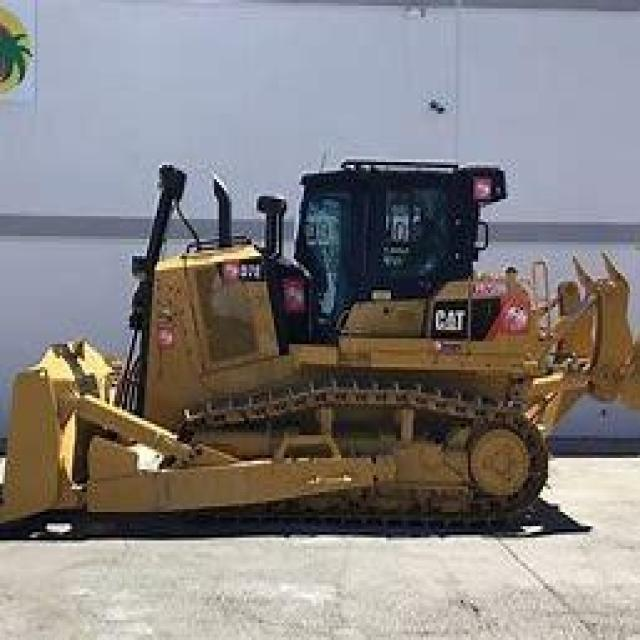buldozerpayloadergrader: (3, 111, 635, 575)
